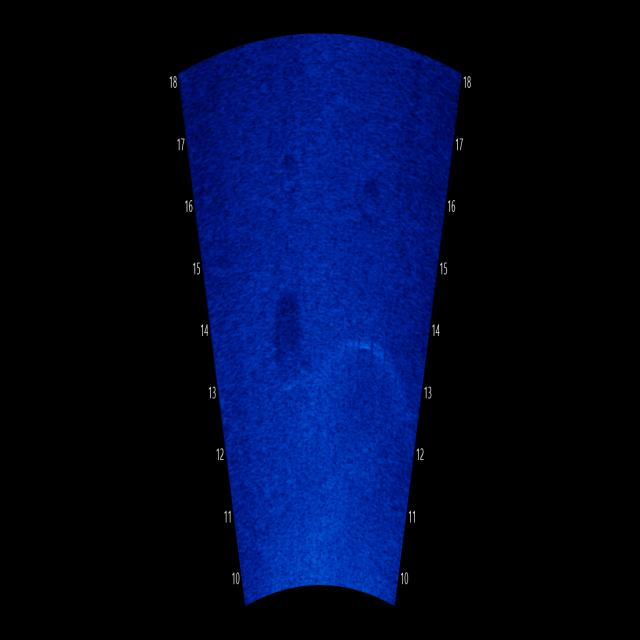circle: (272, 309, 312, 406)
